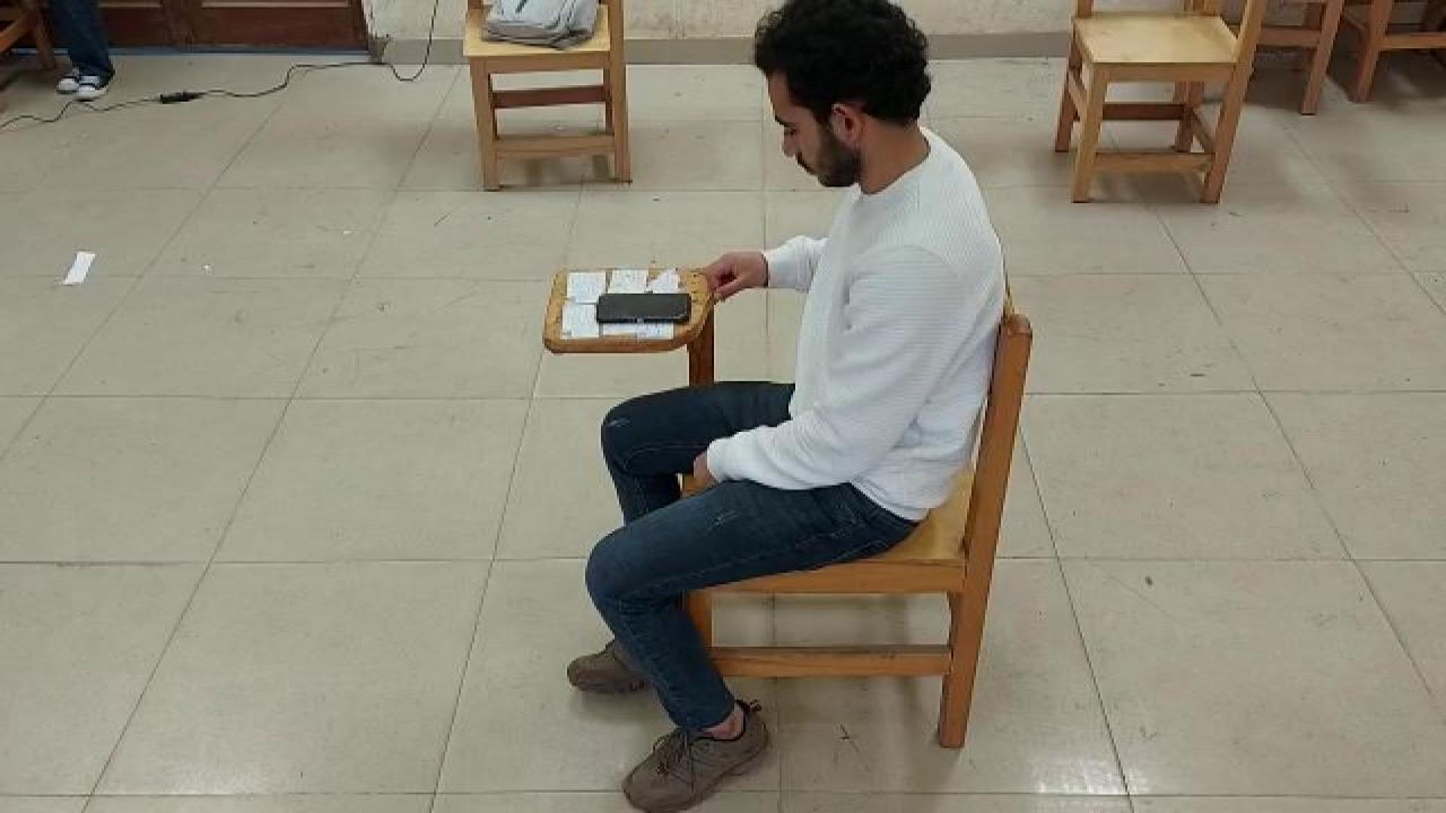phone: (596, 292, 691, 323)
